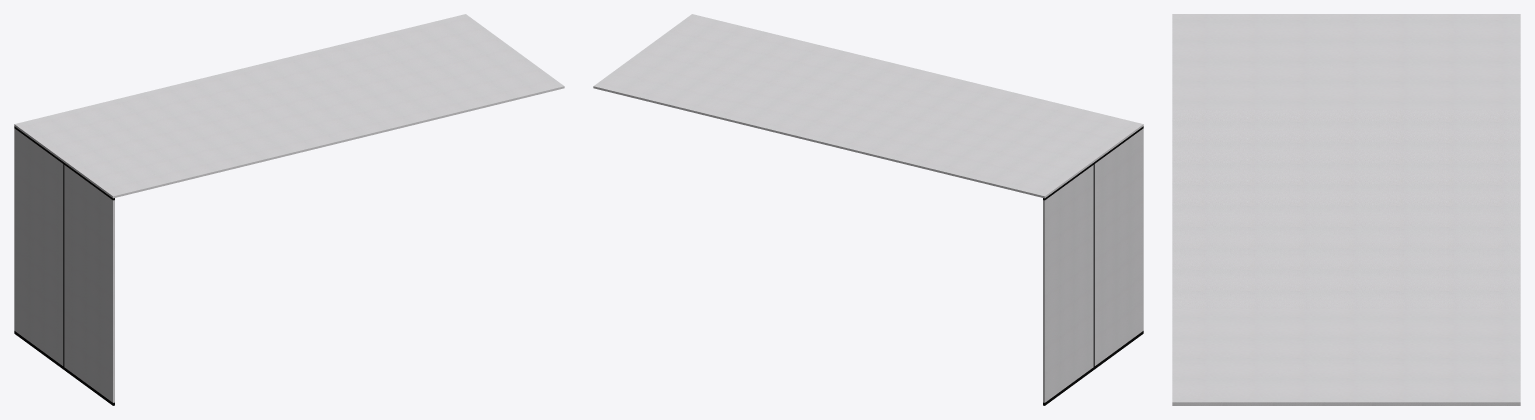
File: rear-top-drywall.glb
3 renders of one model, left to right at view 1: azimuth 30°, elevation 25°; view 2: azimuth 150°, elevation 25°; view 3: azimuth 270°, elevation 25°, orthographic. The views are drawn at different scales.
Parts seen in each view (by area): view 1: Obj_20FT HC Blank_drywall_reartop, Obj_20FT HC Blank_drywall_reartop_5, 20FT HC Blank_drywall_reartop, Obj_20FT HC Blank_drywall_reartop_2, Obj_20FT HC Blank_drywall_reartop_1, Obj_20FT HC Blank_drywall_reartop_4, Obj_20FT HC Blank_drywall_reartop_3; view 2: Obj_20FT HC Blank_drywall_reartop, Obj_20FT HC Blank_drywall_reartop_5, 20FT HC Blank_drywall_reartop, Obj_20FT HC Blank_drywall_reartop_2, Obj_20FT HC Blank_drywall_reartop_4, Obj_20FT HC Blank_drywall_reartop_1, Obj_20FT HC Blank_drywall_reartop_3; view 3: Obj_20FT HC Blank_drywall_reartop, Obj_20FT HC Blank_drywall_reartop_5, Obj_20FT HC Blank_drywall_reartop_2, 20FT HC Blank_drywall_reartop.
Boxes of the visible parts, x1=… form: Obj_20FT HC Blank_drywall_reartop: x1=240, y1=40, x2=455, y2=143; Obj_20FT HC Blank_drywall_reartop_5: x1=126, y1=69, x2=338, y2=171; 20FT HC Blank_drywall_reartop: x1=14, y1=97, x2=224, y2=198; Obj_20FT HC Blank_drywall_reartop_2: x1=357, y1=14, x2=564, y2=114; Obj_20FT HC Blank_drywall_reartop_1: x1=64, y1=165, x2=114, y2=402; Obj_20FT HC Blank_drywall_reartop_4: x1=14, y1=128, x2=63, y2=365; Obj_20FT HC Blank_drywall_reartop_3: x1=14, y1=126, x2=114, y2=405; Obj_20FT HC Blank_drywall_reartop: x1=702, y1=40, x2=917, y2=143; Obj_20FT HC Blank_drywall_reartop_5: x1=819, y1=69, x2=1031, y2=171; 20FT HC Blank_drywall_reartop: x1=933, y1=97, x2=1143, y2=198; Obj_20FT HC Blank_drywall_reartop_2: x1=593, y1=14, x2=800, y2=114; Obj_20FT HC Blank_drywall_reartop_4: x1=1043, y1=165, x2=1093, y2=402; Obj_20FT HC Blank_drywall_reartop_1: x1=1094, y1=128, x2=1143, y2=365; Obj_20FT HC Blank_drywall_reartop_3: x1=1043, y1=126, x2=1143, y2=405; Obj_20FT HC Blank_drywall_reartop: x1=1172, y1=208, x2=1520, y2=308; Obj_20FT HC Blank_drywall_reartop_5: x1=1172, y1=109, x2=1520, y2=207; Obj_20FT HC Blank_drywall_reartop_2: x1=1172, y1=308, x2=1520, y2=405; 20FT HC Blank_drywall_reartop: x1=1172, y1=14, x2=1520, y2=109.
Bounding box in the file's own units: 5.87 × 2.61 × 2.22.
Materials: 2 (1 with a texture image).
